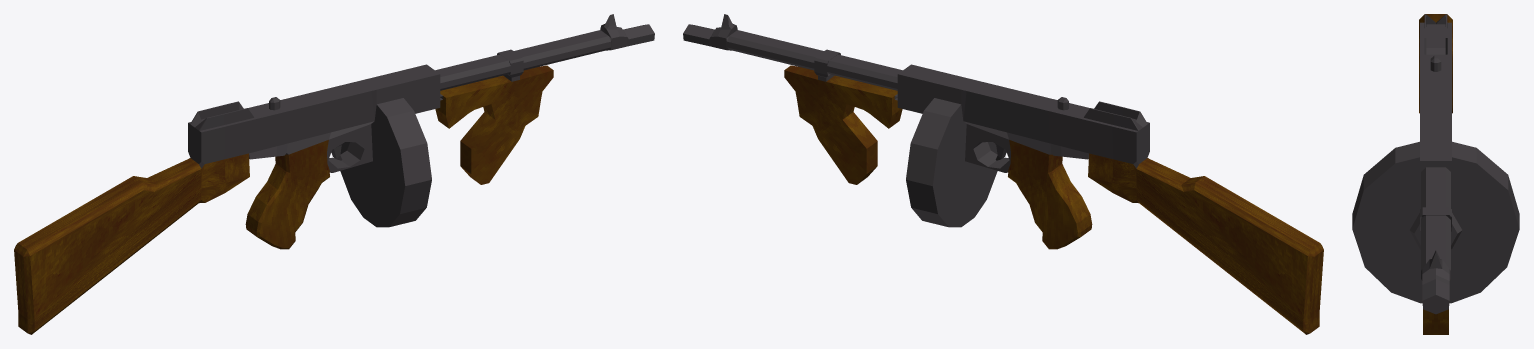
Rendered from thompson.glb.
The picture shows the model from 3 angles, left to right: view 1: azimuth 30°, elevation 25°; view 2: azimuth 150°, elevation 25°; view 3: azimuth 270°, elevation 25°; orthographic projection. The views are drawn at different scales.
Parts seen in each view (by area): view 1: Cube; view 2: Cube; view 3: Cube.
Boxes of the visible parts, bbox=[...] form: Cube: bbox=[14, 14, 654, 334]; Cube: bbox=[683, 14, 1323, 334]; Cube: bbox=[1352, 14, 1519, 334].
Bounding box in the file's own units: 4.37 × 1.16 × 0.8464.
Materials: 2 (1 with a texture image).
